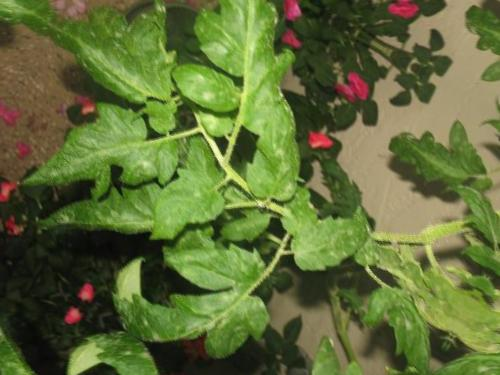Tomato mold leaf: (100, 198, 302, 375), (20, 72, 199, 252), (170, 0, 336, 111), (42, 0, 202, 115), (230, 94, 342, 214), (346, 273, 461, 375), (282, 191, 380, 294), (159, 49, 253, 132), (278, 334, 419, 375)
